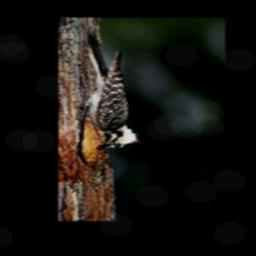Woodpecker: (76, 32, 146, 152)
